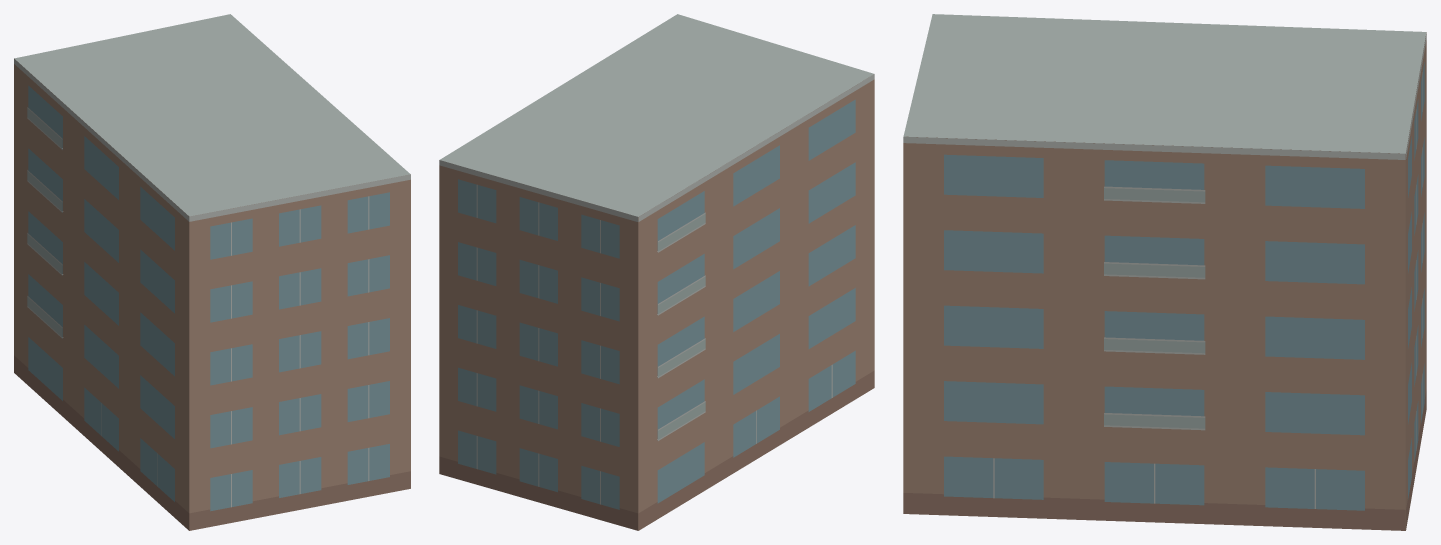
The model's file is survey-upis-32750273.glb.
3 renders of one model, left to right at view 1: azimuth 30°, elevation 25°; view 2: azimuth 150°, elevation 25°; view 3: azimuth 270°, elevation 25°, orthographic. The views are drawn at different scales.
Parts seen in each view (by area): view 1: survey-upis-32750273.tmp; view 2: survey-upis-32750273.tmp; view 3: survey-upis-32750273.tmp.
Boxes of the visible parts, x1,y1,x2,y2 form: survey-upis-32750273.tmp: (14, 14, 410, 530); survey-upis-32750273.tmp: (439, 14, 874, 530); survey-upis-32750273.tmp: (903, 14, 1426, 530).
Size of the model in its own units: 11.36 by 14.3 by 17.98.
